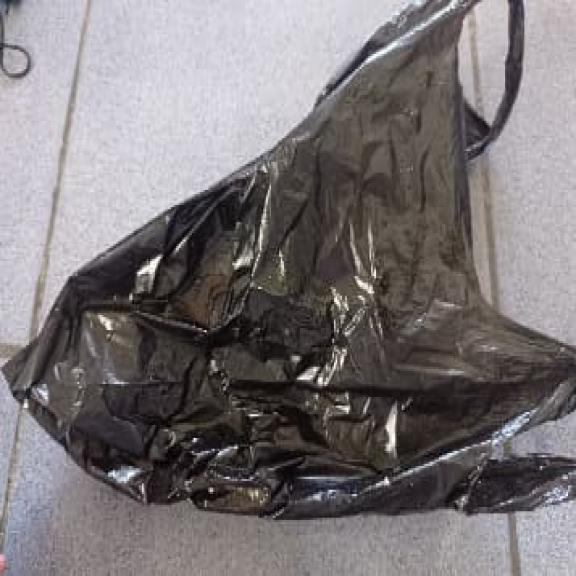Plastik: (30, 103, 527, 517)
